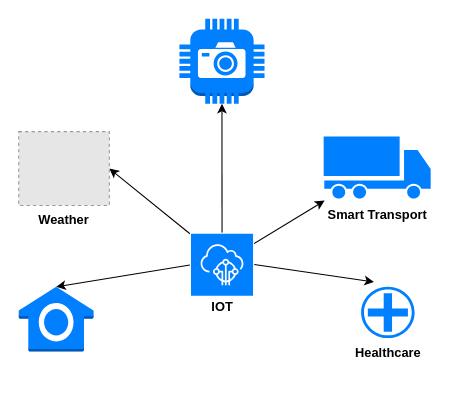
This 449x393 diagram has some shape labels left out. Grey dashed boxes stand in for pictures. The shapes that lost their labels are listed below. From the top down, each one's centre as x and y in pixels, then its label:
At (221,61): "Access and surveillance".
At (56,318): "Smart Home".
